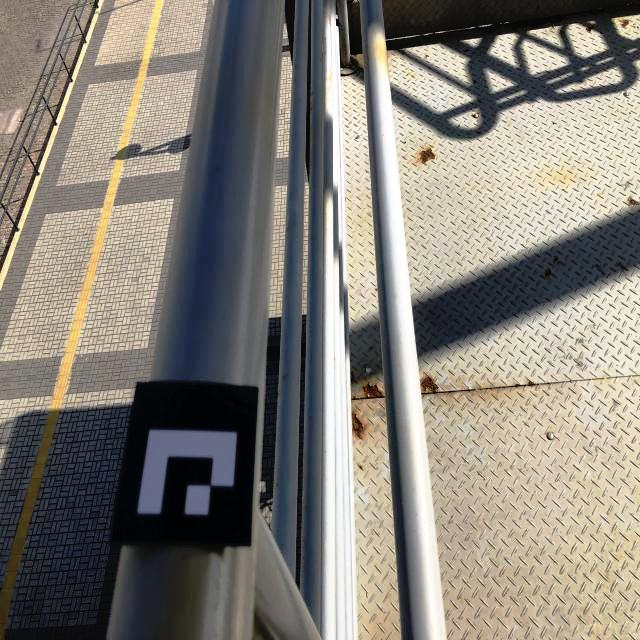Corrosion: (500, 7, 607, 31), (351, 411, 366, 441), (420, 376, 440, 398), (363, 383, 385, 398), (420, 147, 436, 164), (477, 24, 494, 34), (350, 45, 361, 58), (628, 196, 638, 205), (584, 25, 595, 33), (622, 19, 630, 28), (527, 380, 535, 386), (351, 394, 358, 400), (546, 269, 552, 276), (514, 384, 521, 388), (554, 257, 558, 261), (473, 114, 476, 117), (477, 112, 479, 115)
